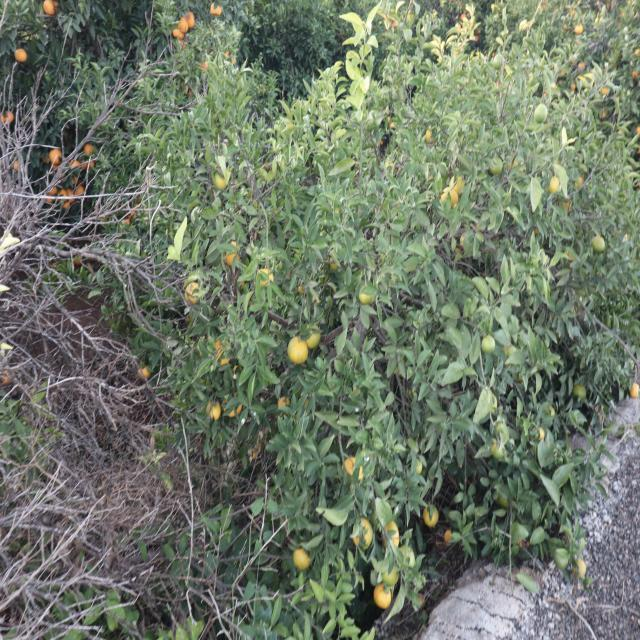Jeruk Belum Matang: (358, 287, 376, 306), (480, 334, 494, 356), (591, 234, 606, 253), (550, 176, 564, 196), (575, 381, 589, 401), (534, 103, 548, 122), (214, 175, 229, 192), (308, 332, 320, 351), (490, 158, 502, 174), (494, 54, 504, 68)
Jeruk Sudah Matang: (288, 342, 307, 368), (375, 586, 394, 610), (358, 520, 373, 548), (422, 504, 440, 526), (186, 282, 202, 304), (442, 187, 458, 208), (388, 519, 401, 544), (293, 550, 308, 571), (354, 462, 368, 483), (179, 15, 194, 34), (214, 339, 228, 359), (42, 0, 58, 16), (345, 456, 358, 475), (441, 528, 456, 544), (224, 250, 239, 266), (450, 176, 464, 193), (207, 404, 221, 419), (228, 406, 244, 418), (16, 48, 29, 62), (173, 26, 186, 40), (218, 354, 230, 369), (630, 382, 640, 399), (578, 559, 588, 576), (49, 150, 61, 164), (140, 366, 152, 379), (4, 110, 16, 123), (278, 396, 290, 409), (426, 125, 434, 144), (250, 446, 260, 460), (58, 189, 68, 203), (200, 60, 212, 71), (1, 374, 11, 386), (211, 6, 222, 16), (83, 145, 94, 155), (72, 256, 82, 266), (67, 190, 75, 202), (576, 24, 585, 34), (12, 160, 20, 170), (70, 160, 80, 168), (128, 211, 136, 221), (76, 187, 84, 196), (62, 202, 70, 210), (123, 218, 130, 226)
